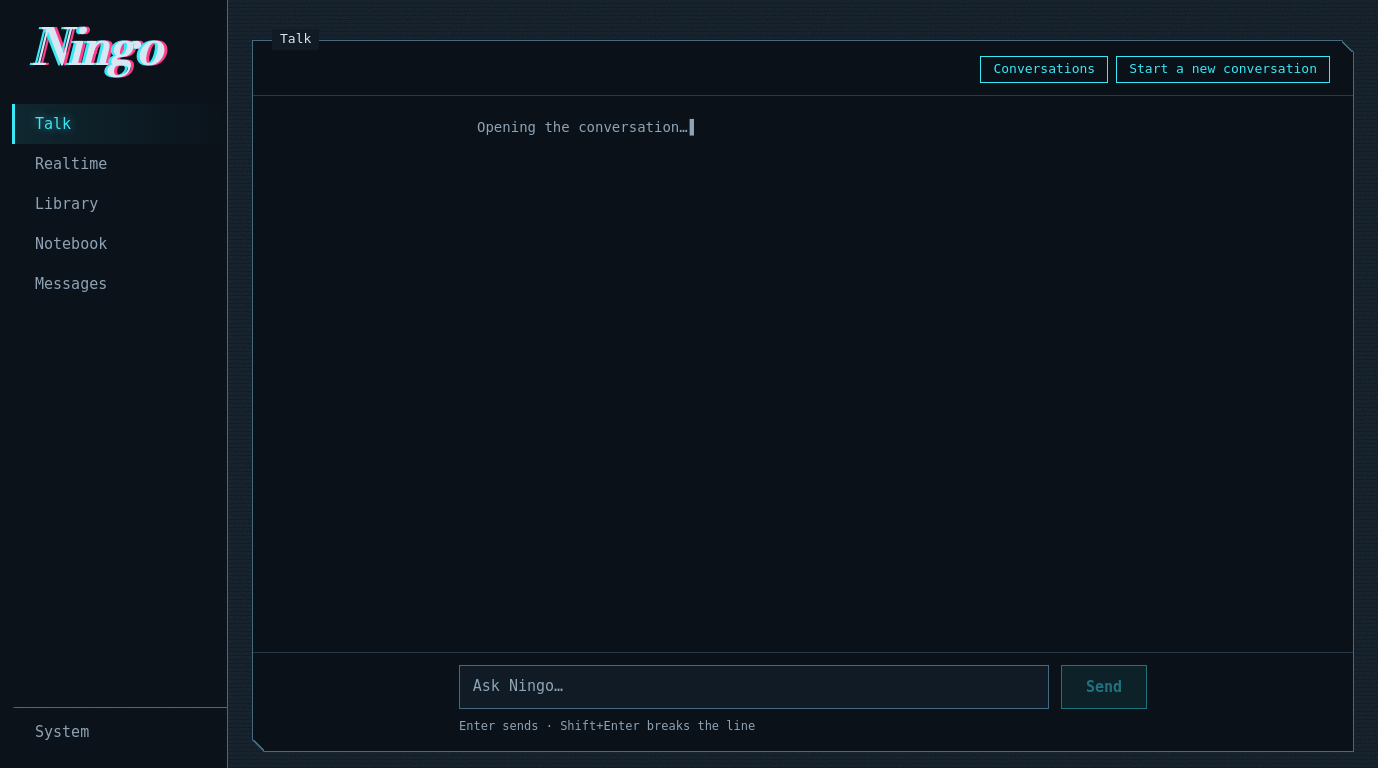
Test: the screen › gives the Library its views as tabs the arrows move between
Click the tab "Library". click: (120, 204)
box: [12,184,227,224]
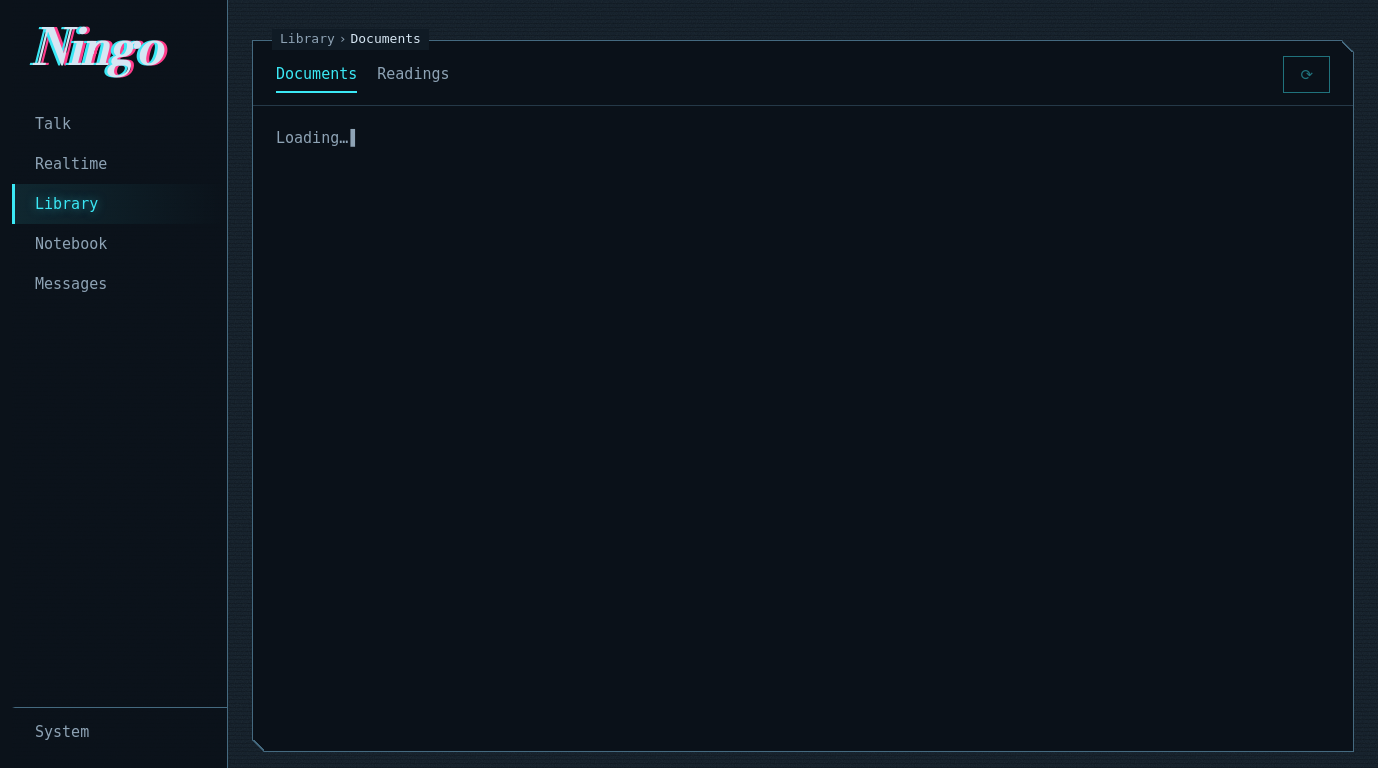
Press ArrowRight in the element named "Library", box [276,56,450,93]
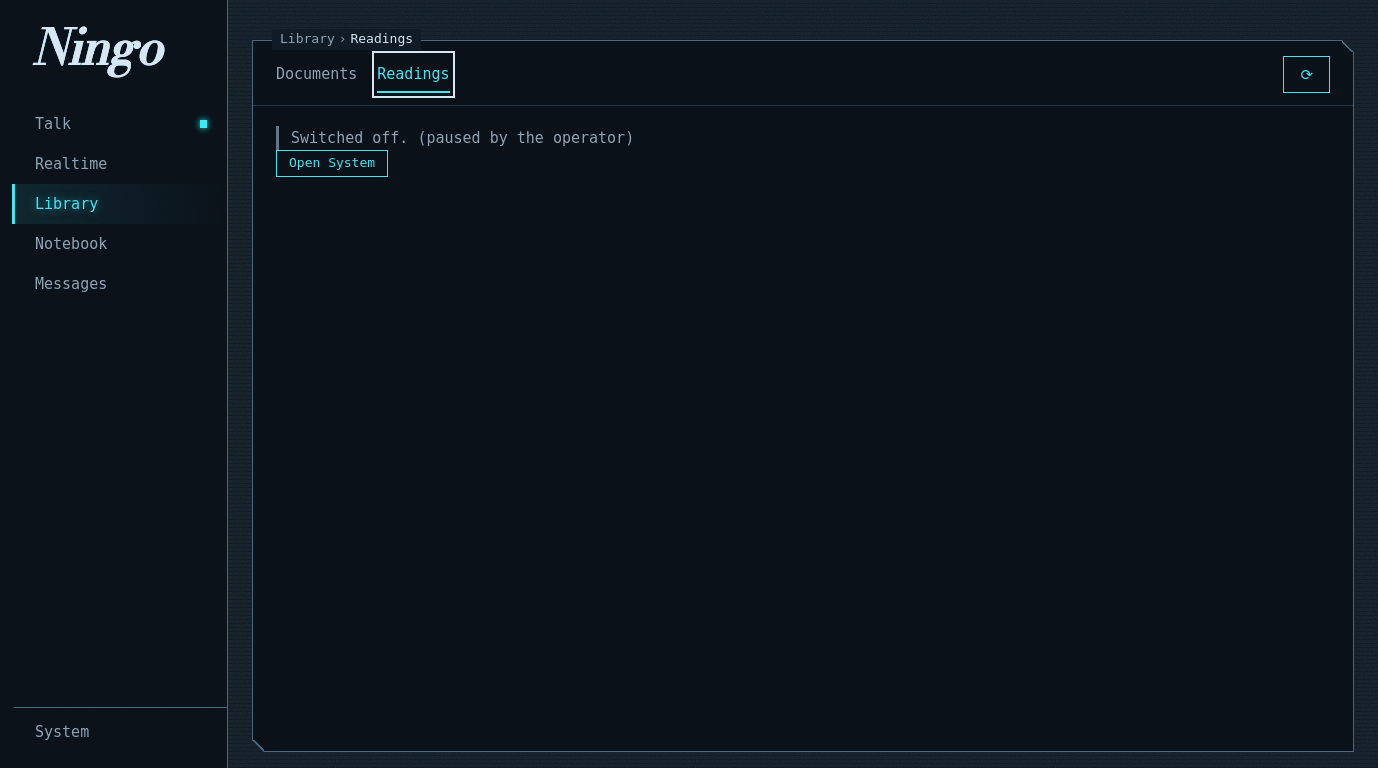
Now the element named "Library › Readings" is shown, box [252,29,1354,177]
